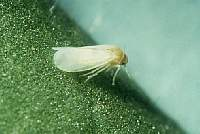whitefly: (51, 42, 133, 87)
